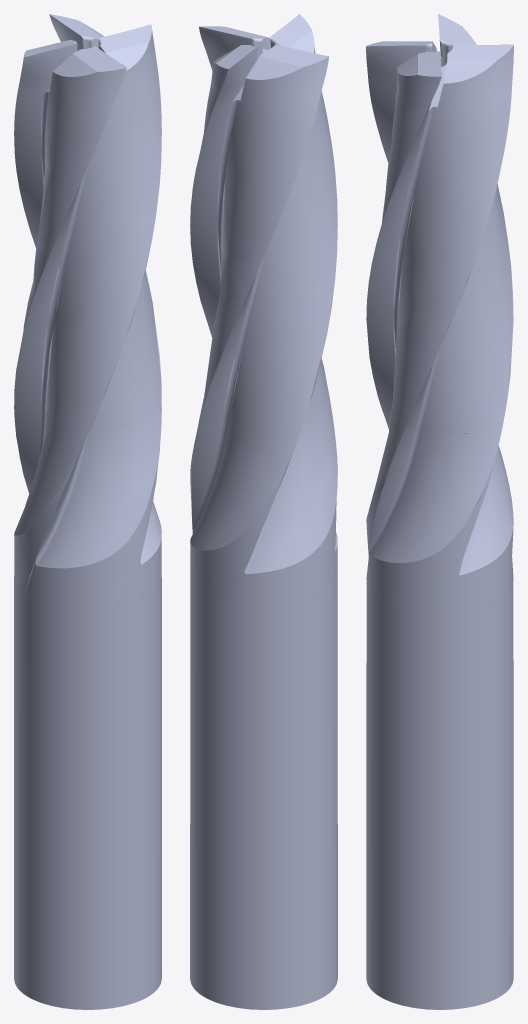
The model's file is end mill 5mm.glb.
3 views of the same model, side by side, from view 1: azimuth 30°, elevation 25°; view 2: azimuth 150°, elevation 25°; view 3: azimuth 270°, elevation 25° (orthographic).
Visible parts, largest first — view 1: end mill 5mm.IGS (×23); view 2: end mill 5mm.IGS (×21); view 3: end mill 5mm.IGS (×21).
Boxes of the visible parts, <box> form: end mill 5mm.IGS (×23): <box>14,14,161,1009</box>; end mill 5mm.IGS (×21): <box>190,14,337,1009</box>; end mill 5mm.IGS (×21): <box>366,14,513,1009</box>.
Bounding box in the file's own units: 0.00503 × 0.035 × 0.00503.
